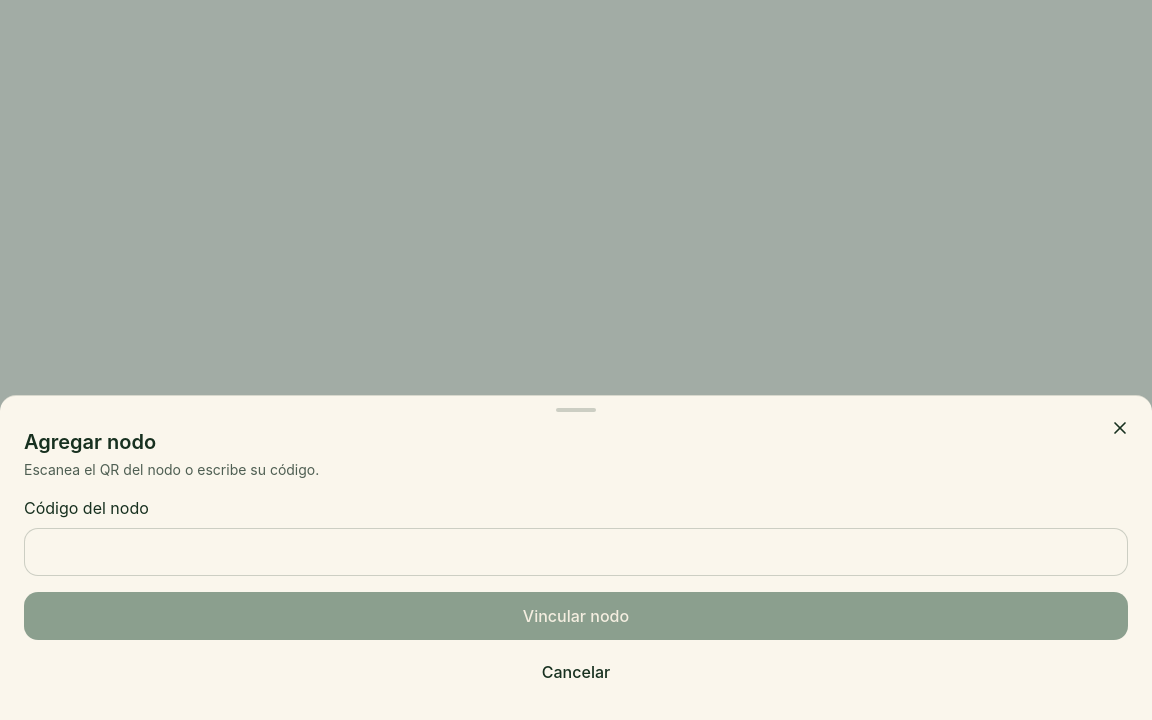
it: ClaimNodeSheet › claims a node from a typed code and shows the MQTT credentials once
Type "ABC-123" into the field labelled "Código del nodo" at x=576, y=552, box [24,528,1128,576]
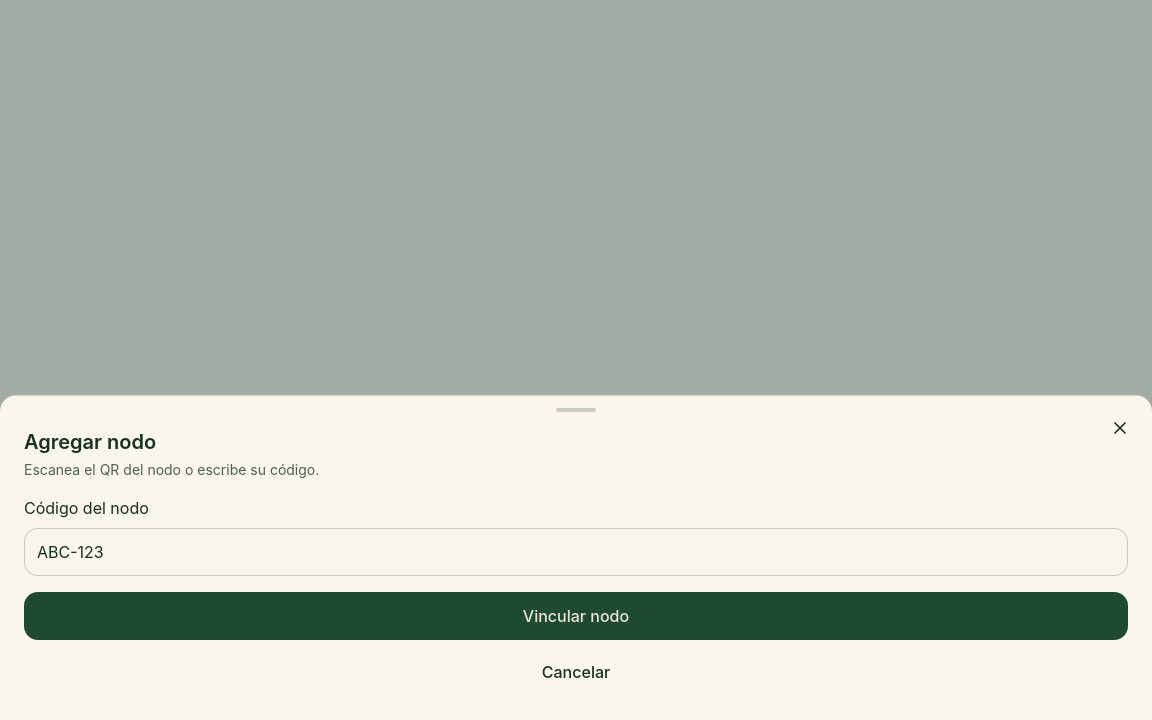
Click the button "Vincular nodo" at x=576, y=616, box [24,592,1128,640]
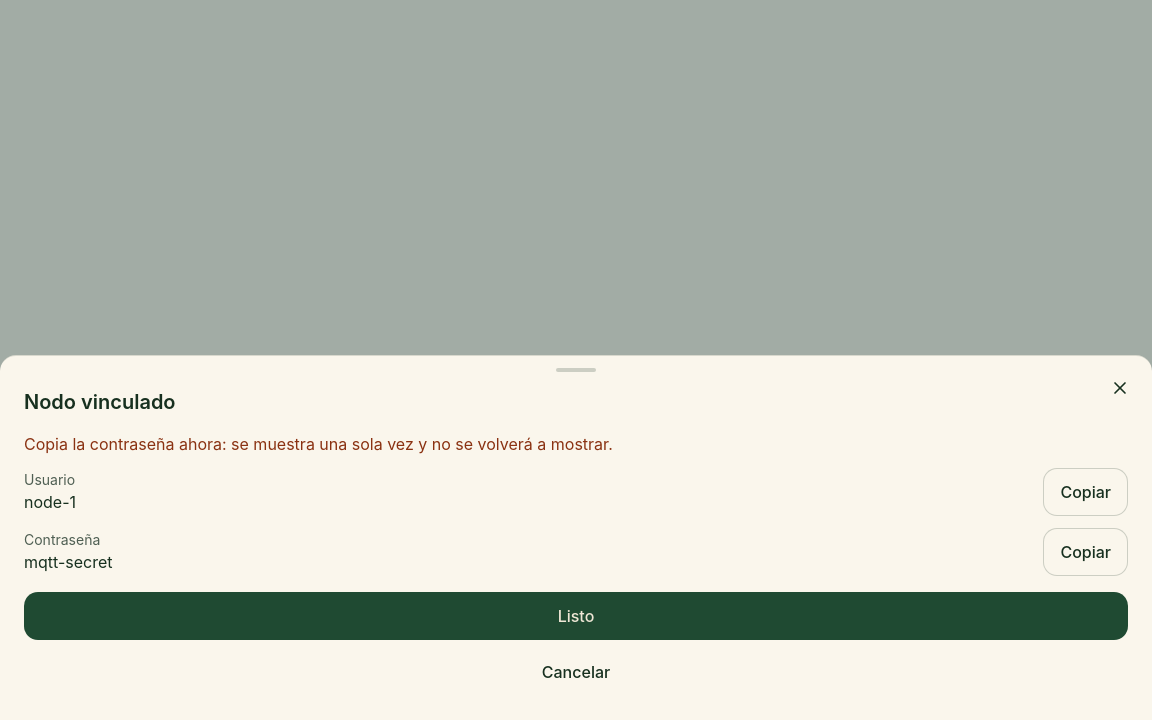
Expected: the text "mqtt-secret" is shown, [24,550,113,574]
Expected: the text "node-1" is shown, [24,490,76,514]
Expected: the text "no se volverá a mostrar" is shown, [24,434,613,454]
